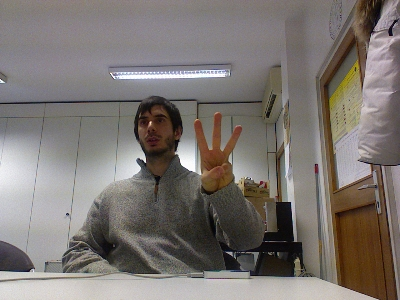三分: (192, 108, 242, 193)
